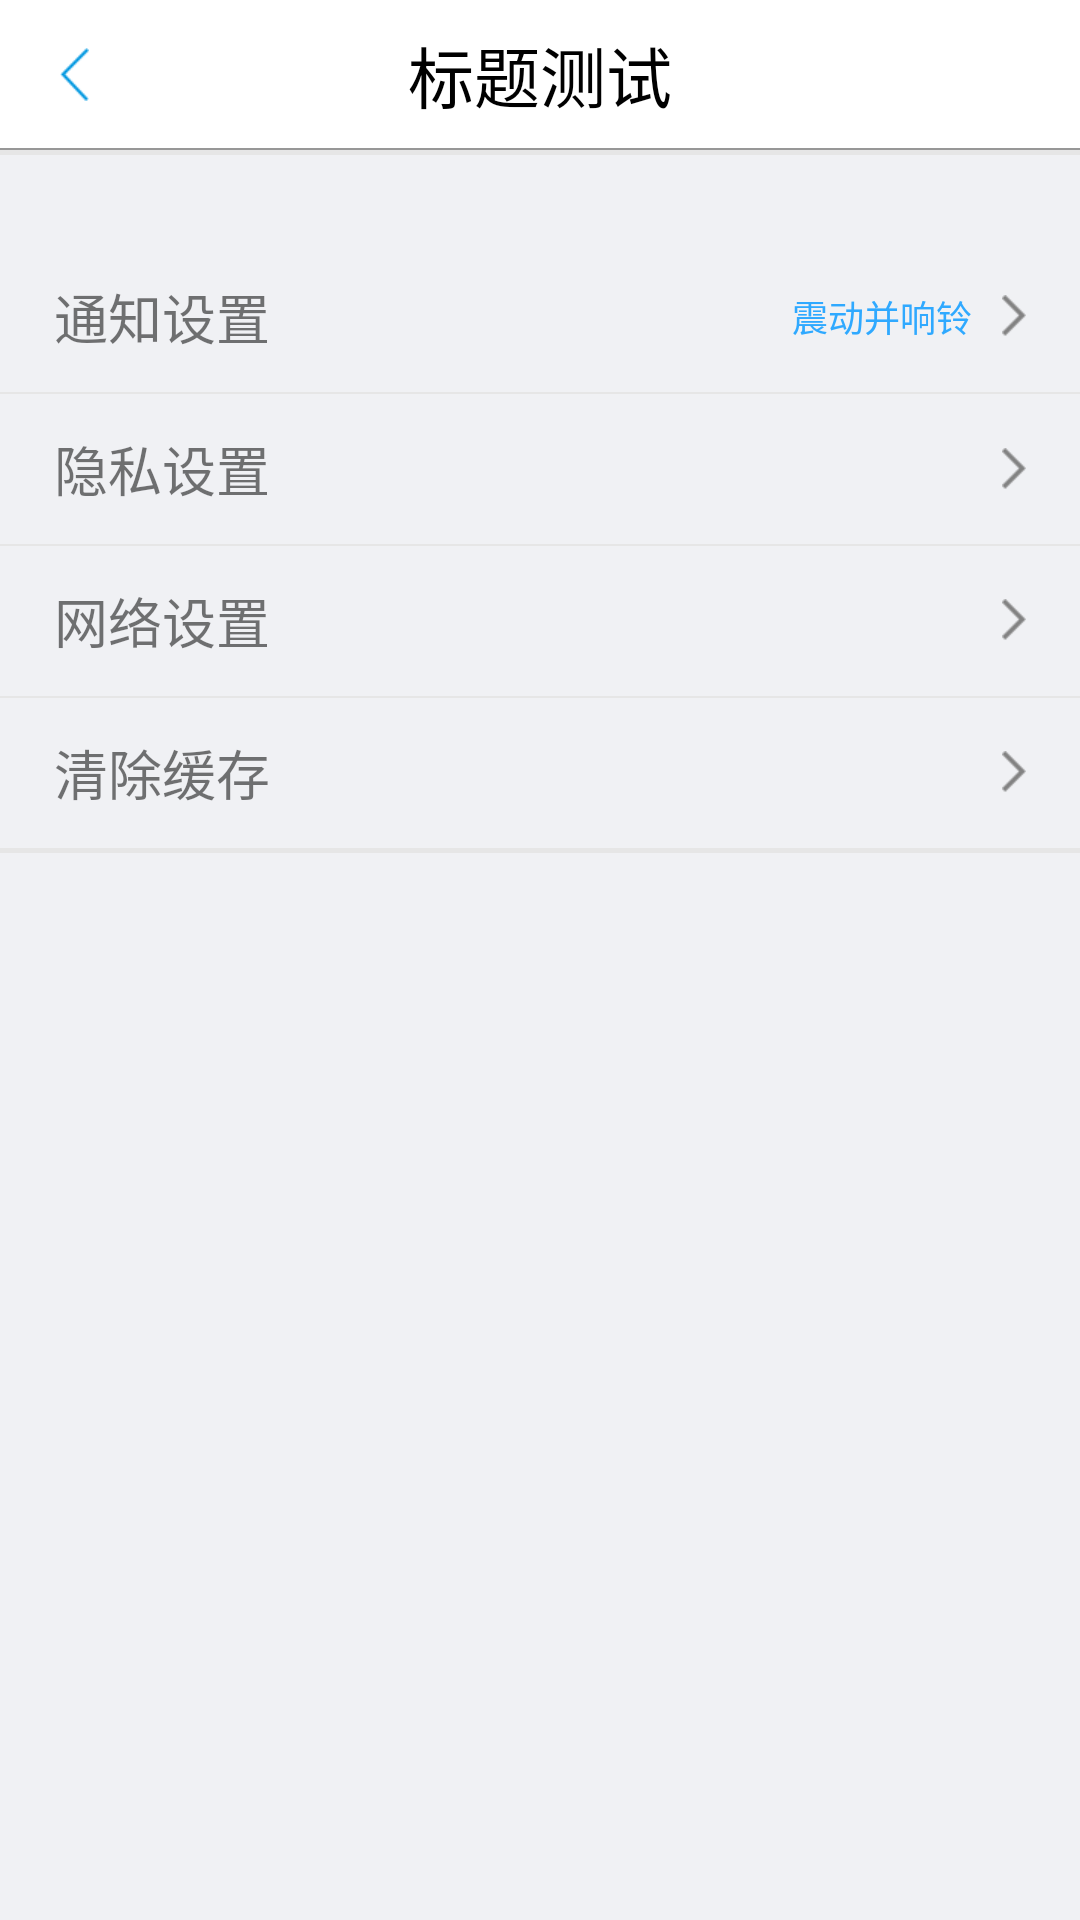

Icon bounding boxes for this 1080 x 1920 phone screenshot, format {"left": x1, "top": y1, "right": x2, "bottom": y2}:
back: {"left": 60, "top": 48, "right": 89, "bottom": 101}
